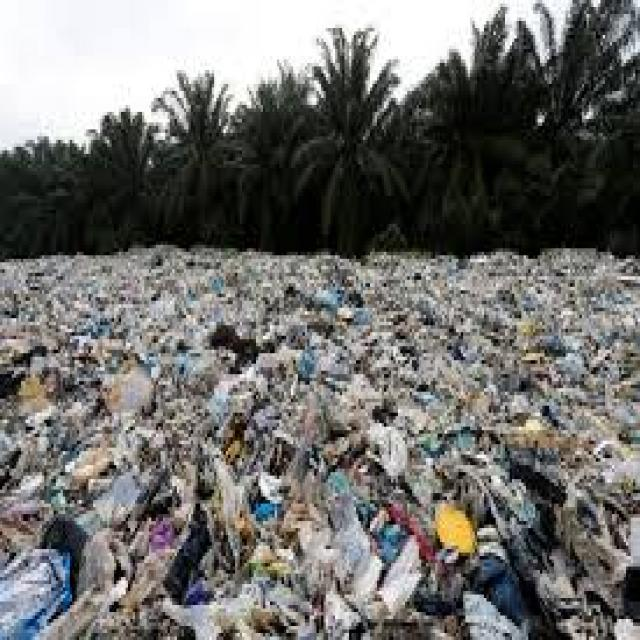plastic: (13, 256, 636, 640)
